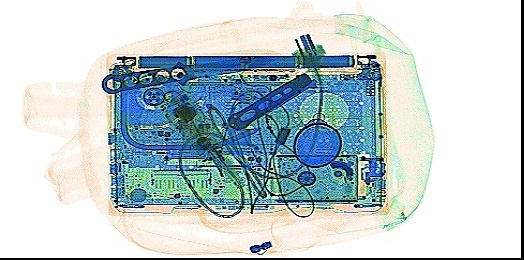knife: (99, 47, 273, 93), (225, 71, 315, 131)
